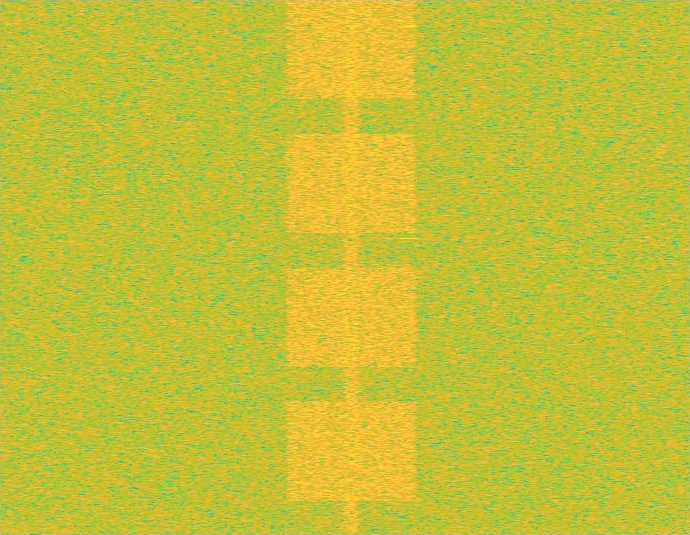5G: (283, 0, 421, 534)
DSSS: (342, 0, 361, 534)
Radar: (401, 0, 415, 534)
